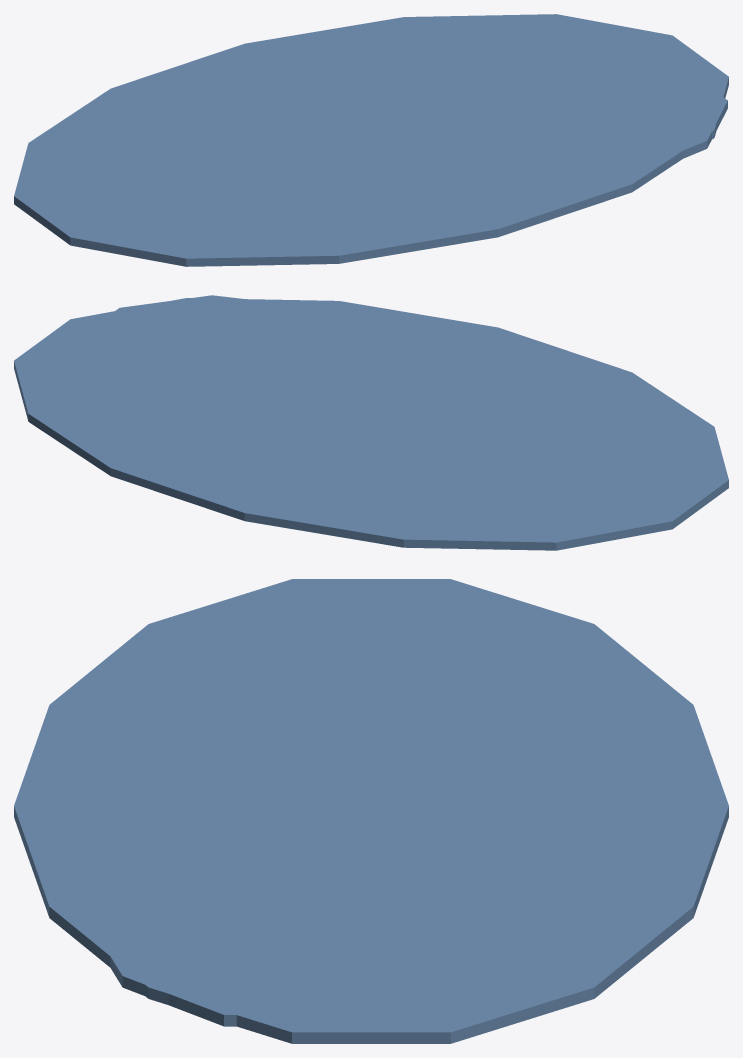
The model's file is CatCafe_Alley_Puddle.glb.
3 renders of one model, top to bottom at view 1: azimuth 30°, elevation 25°; view 2: azimuth 150°, elevation 25°; view 3: azimuth 270°, elevation 25°, orthographic. The views are drawn at different scales.
Visible parts, largest first — view 1: CatCafe_Alley_Puddle; view 2: CatCafe_Alley_Puddle; view 3: CatCafe_Alley_Puddle.
Part boxes in pixels (x1,y1,x2,y2): CatCafe_Alley_Puddle: [14, 14, 728, 266]; CatCafe_Alley_Puddle: [14, 295, 728, 550]; CatCafe_Alley_Puddle: [14, 579, 728, 1043].
Size of the model in its own units: 2.53 by 0.03 by 1.69.
Materials: 1 (1 with a texture image).
